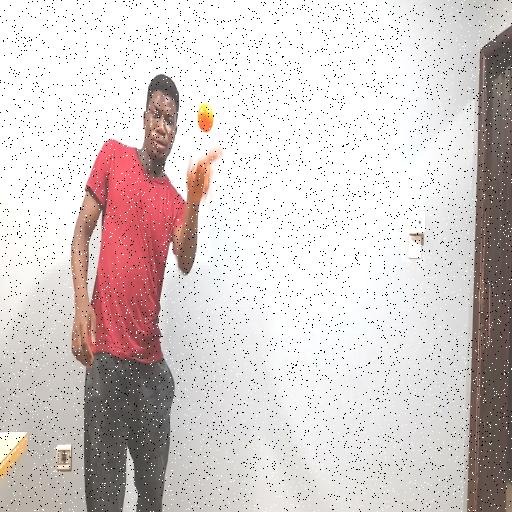plastic-ball: (194, 100, 217, 136)
